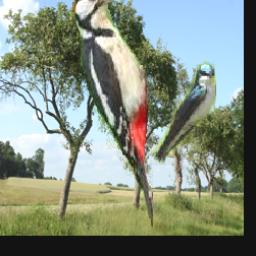Swallow: (151, 61, 216, 165)
Woodpecker: (73, 0, 154, 234)
